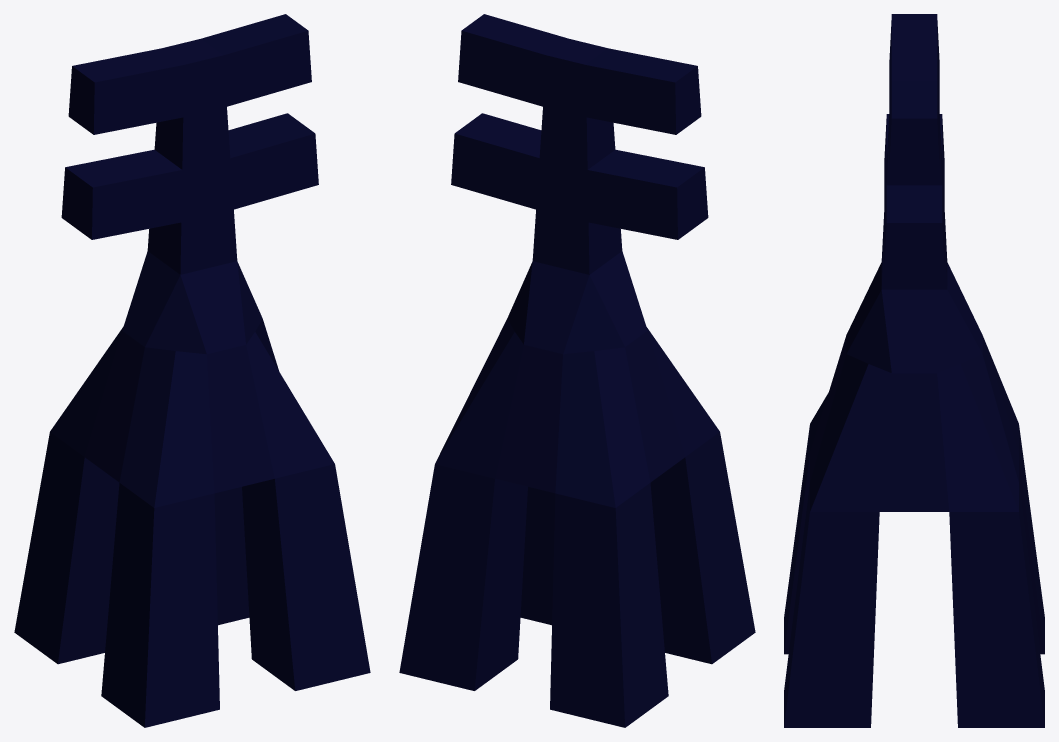
File: torre.fbx
3 views of the same model, side by side, from view 1: azimuth 30°, elevation 25°; view 2: azimuth 150°, elevation 25°; view 3: azimuth 270°, elevation 25° (orthographic).
Parts seen in each view (by area): view 1: Cubo; view 2: Cubo; view 3: Cubo.
Part boxes in pixels (x1,y1,x2,y2): Cubo: [14, 14, 370, 727]; Cubo: [399, 14, 755, 727]; Cubo: [784, 14, 1044, 727].
Bounding box in the file's own units: 388 × 982 × 383.
